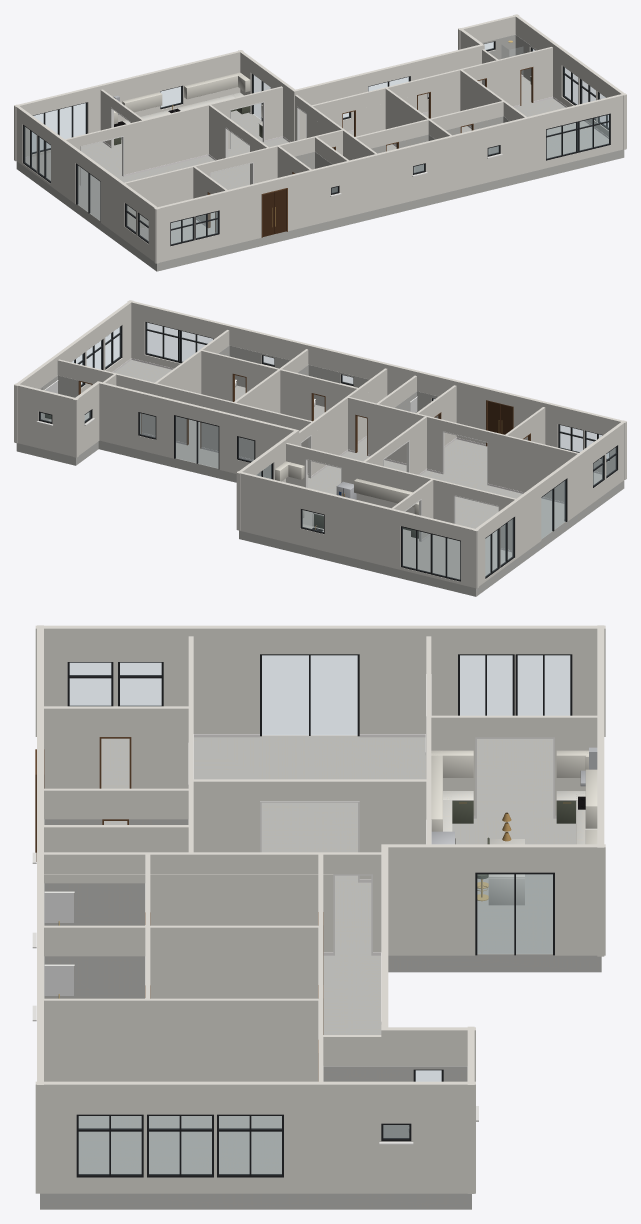
File: int_est_S7_0.glb
3 renders of one model, top to bottom at view 1: azimuth 30°, elevation 25°; view 2: azimuth 150°, elevation 25°; view 3: azimuth 270°, elevation 25°, orthographic. The views are drawn at different scales.
Visible parts, largest first — view 1: WALL_0, ROOM, WALL_4, WALL_10, WALL_8, WALL_14, WALL_3, WALL_17, WALL_16, WALL_12, WALL_13, WALL_7 (+8 smaller); view 2: ROOM, WALL_0, WALL_10, WALL_17, WALL_3, WALL_4, WALL_8, WALL_12, WALL_14, WALL_16, WALL_20, WALL_13 (+9 smaller); view 3: ROOM, WALL_4, WALL_16, WALL_7, WALL_15, WALL_13, WALL_9, WALL_3, WALL_1, WALL_6, WALL_11, WALL_2 (+10 smaller).
Boxes of the visible parts, bbox=[...] form: WALL_0: bbox=[154, 93, 626, 263]; ROOM: bbox=[16, 34, 624, 271]; WALL_4: bbox=[14, 104, 159, 263]; WALL_10: bbox=[14, 50, 243, 161]; WALL_8: bbox=[65, 86, 282, 186]; WALL_14: bbox=[311, 47, 552, 136]; WALL_3: bbox=[124, 114, 364, 230]; WALL_17: bbox=[292, 44, 484, 141]; WALL_16: bbox=[514, 14, 626, 149]; WALL_12: bbox=[354, 101, 503, 151]; WALL_13: bbox=[356, 88, 451, 145]; WALL_7: bbox=[238, 50, 296, 141]; ROOM: bbox=[16, 345, 624, 596]; WALL_0: bbox=[127, 300, 626, 479]; WALL_10: bbox=[237, 471, 478, 588]; WALL_17: bbox=[99, 382, 299, 478]; WALL_3: bbox=[311, 379, 578, 501]; WALL_4: bbox=[473, 420, 626, 588]; WALL_8: bbox=[286, 443, 515, 550]; WALL_12: bbox=[201, 350, 357, 421]; WALL_14: bbox=[57, 359, 313, 472]; WALL_16: bbox=[14, 300, 133, 443]; WALL_20: bbox=[14, 383, 78, 457]; WALL_13: bbox=[201, 349, 308, 459]; ROOM: bbox=[40, 734, 601, 1209]; WALL_4: bbox=[35, 625, 605, 736]; WALL_16: bbox=[35, 1081, 475, 1193]; WALL_7: bbox=[381, 844, 605, 955]; WALL_15: bbox=[44, 998, 318, 1081]; WALL_13: bbox=[44, 925, 318, 998]; WALL_9: bbox=[191, 779, 428, 882]; WALL_3: bbox=[44, 636, 333, 952]; WALL_1: bbox=[44, 706, 190, 788]; WALL_6: bbox=[44, 852, 381, 955]; WALL_11: bbox=[428, 715, 597, 818]; WALL_2: bbox=[44, 788, 190, 824].
Bounding box in the file's own units: 32.91 × 4.2 × 17.32.
16 materials, 1 textured.
